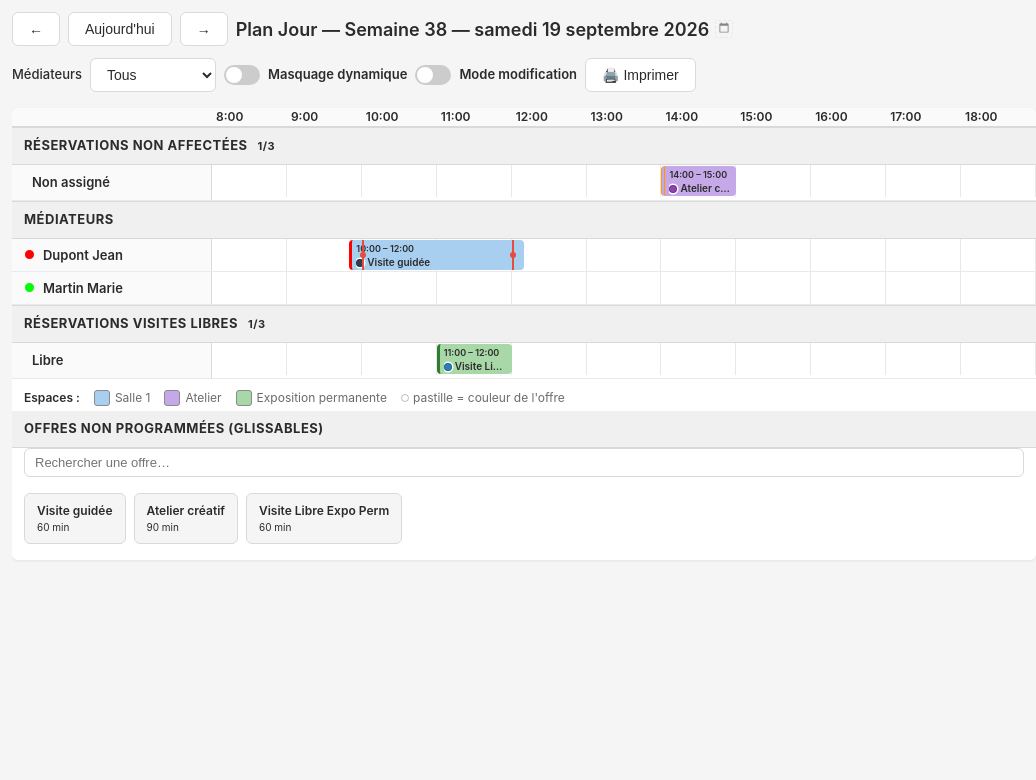
Test: DailyView › offer search filter › should filter offers on partial case-insensitive match
Type "atelier" into the field with id "daily-offer-search" at coordinates (524, 462), box [24,448,1024,476]
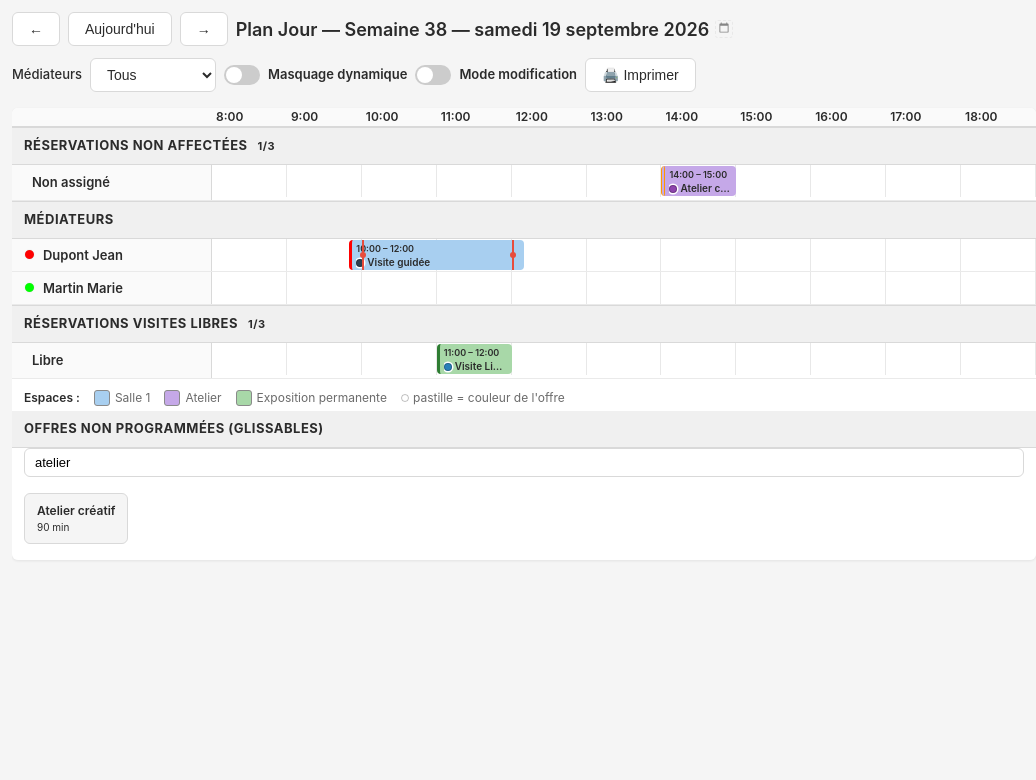
Expected: the element with class "daily-offer" shows "Atelier créatif", [37,502,116,518]
Expected: the number of elements with class "daily-offer" is 1, [24,492,128,544]
